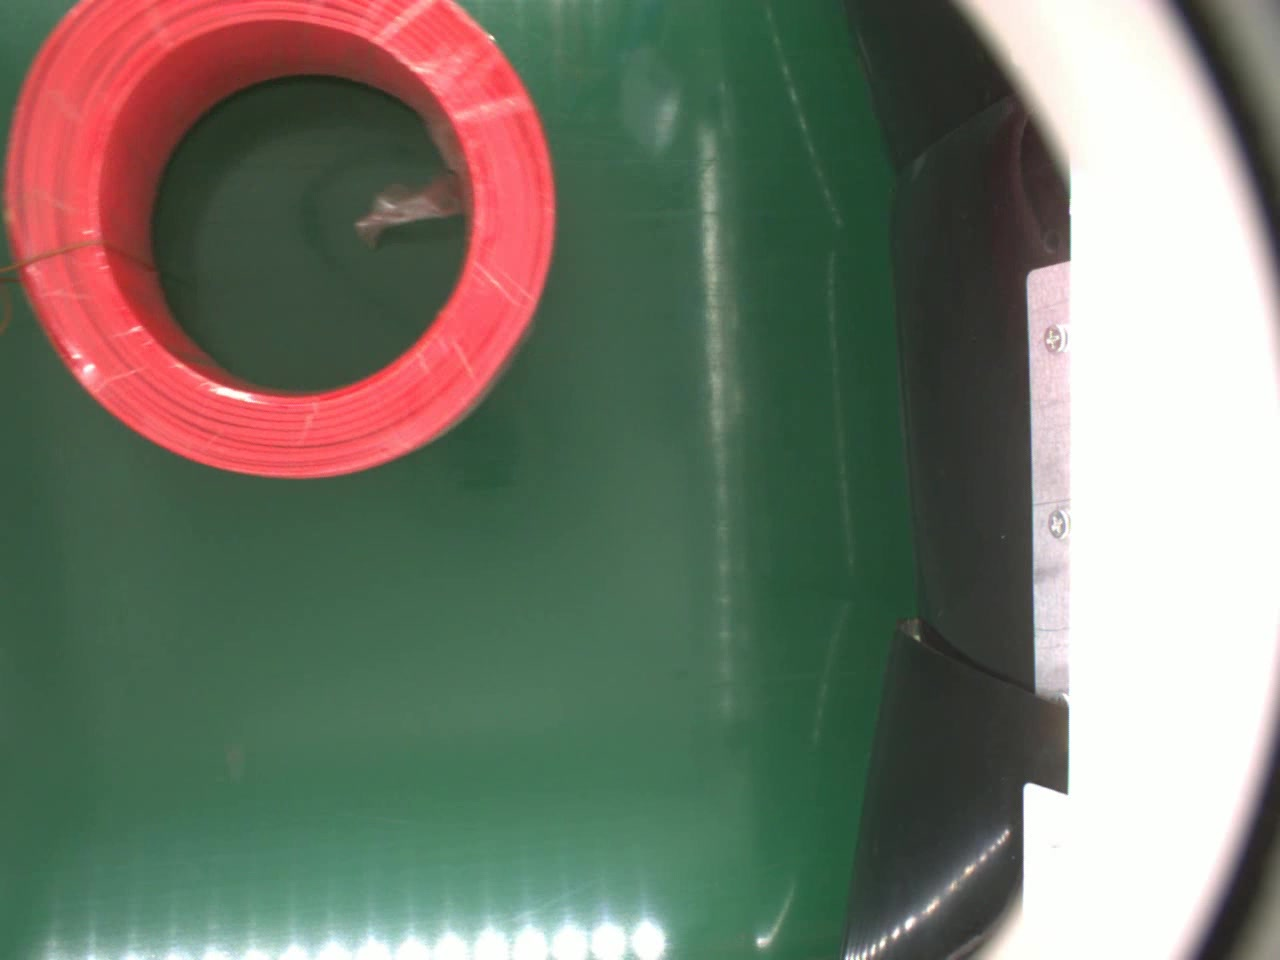red: (5, 0, 558, 478)
